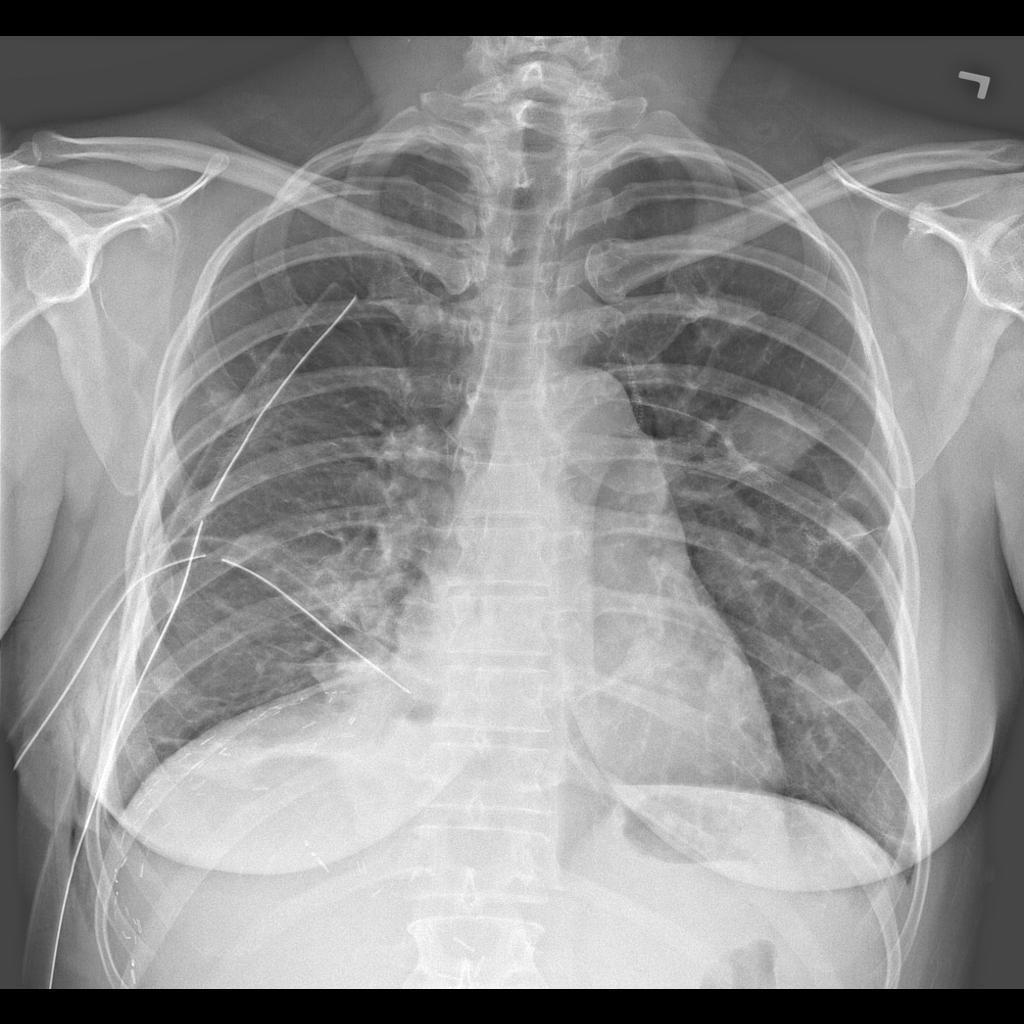Nodule: (724, 384, 826, 486), (795, 658, 866, 718), (820, 508, 869, 560)
